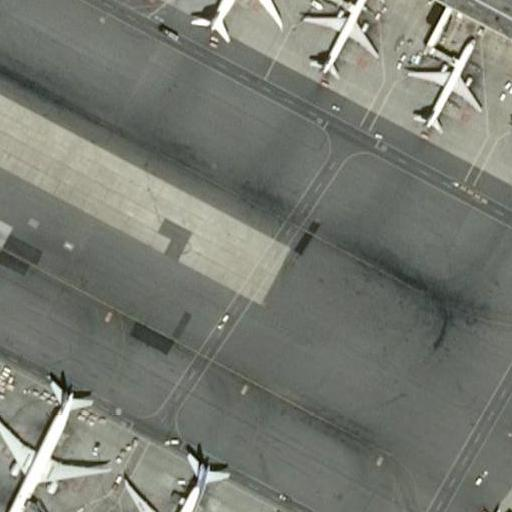Aircraft: (0, 371, 107, 512), (117, 447, 237, 512), (405, 36, 482, 135), (303, 0, 382, 78), (171, 0, 285, 49), (507, 91, 512, 190), (475, 509, 512, 512)
